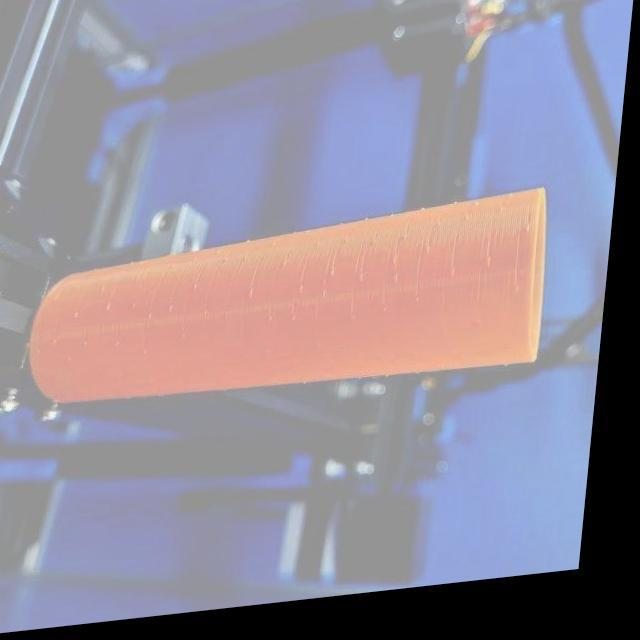zits: (488, 266, 500, 284), (384, 310, 398, 324), (78, 307, 90, 322), (364, 279, 375, 294), (254, 291, 265, 305), (454, 276, 466, 288), (134, 300, 146, 312), (172, 308, 184, 320), (303, 288, 313, 302), (429, 254, 440, 266), (195, 286, 206, 298), (333, 273, 343, 286), (528, 233, 538, 246), (467, 223, 477, 235), (110, 303, 120, 315), (346, 244, 356, 256), (399, 281, 408, 294), (120, 341, 129, 353), (89, 338, 98, 350), (520, 294, 529, 306), (326, 296, 335, 307), (376, 244, 385, 255), (287, 266, 296, 276), (296, 320, 305, 330), (148, 350, 157, 360), (58, 338, 68, 347), (406, 240, 414, 251), (419, 304, 428, 313), (396, 264, 404, 274), (502, 218, 510, 228), (106, 289, 114, 298), (154, 314, 160, 324)
